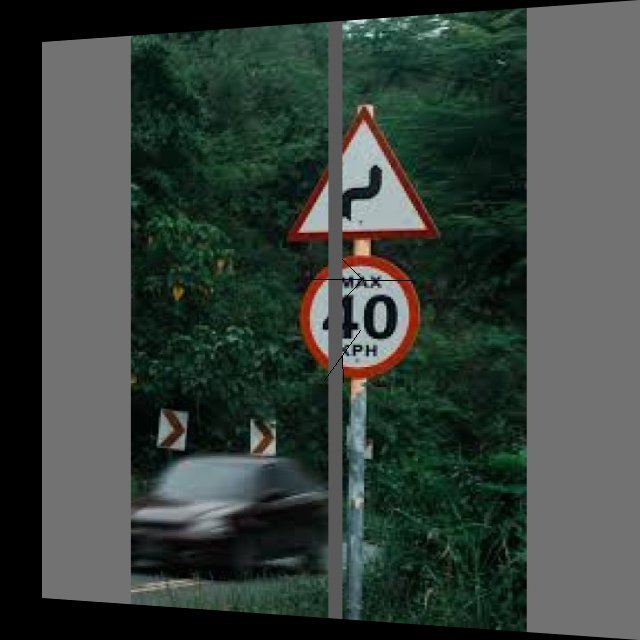Speed_Limit_40: (303, 253, 421, 383)
